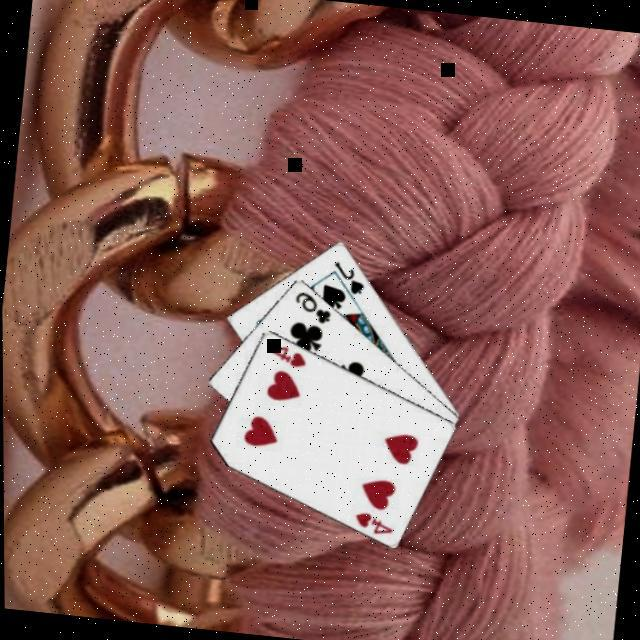4H: (265, 342, 311, 372), (351, 509, 397, 539)
6C: (290, 288, 336, 328)
JS: (328, 258, 371, 299)
